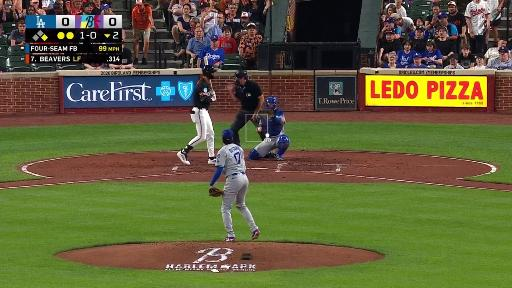pitcher: (207, 129, 260, 240)
